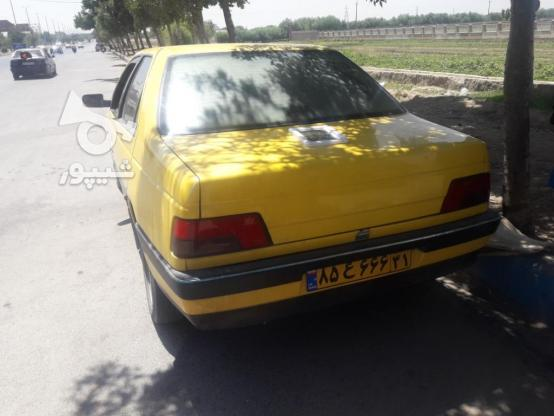car: (305, 247, 415, 299)
